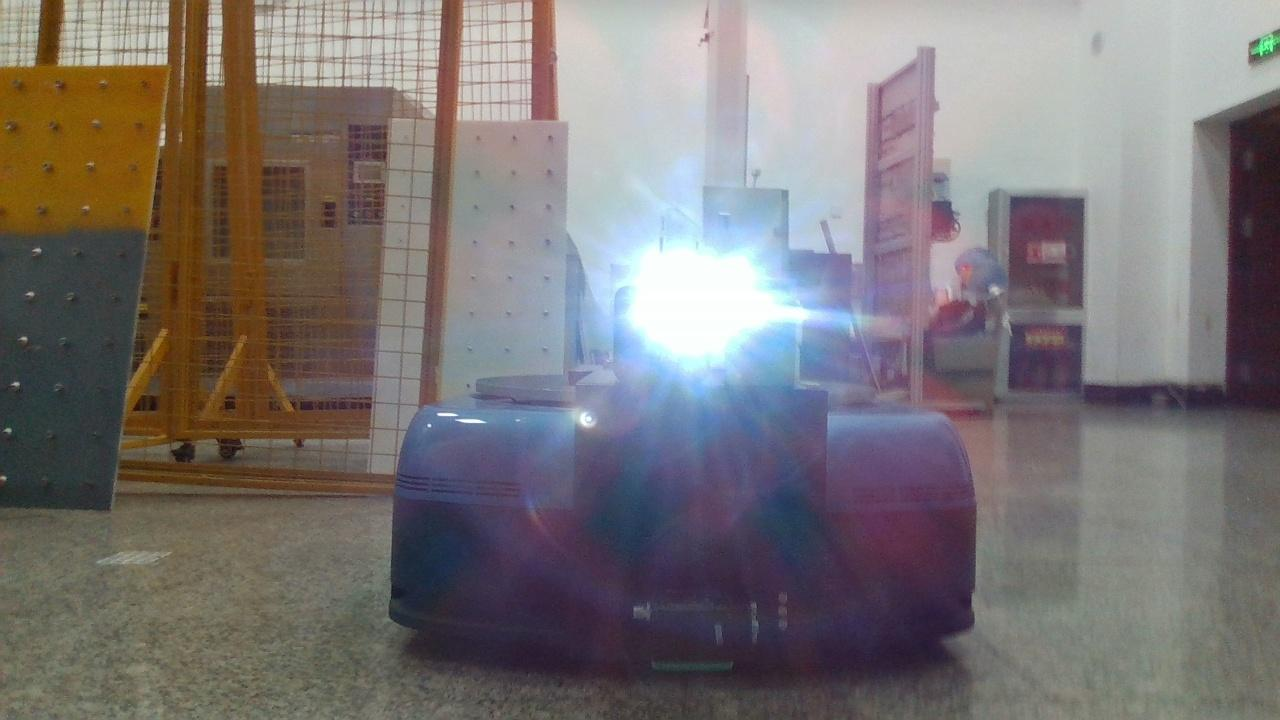AGV: (390, 373, 975, 670)
